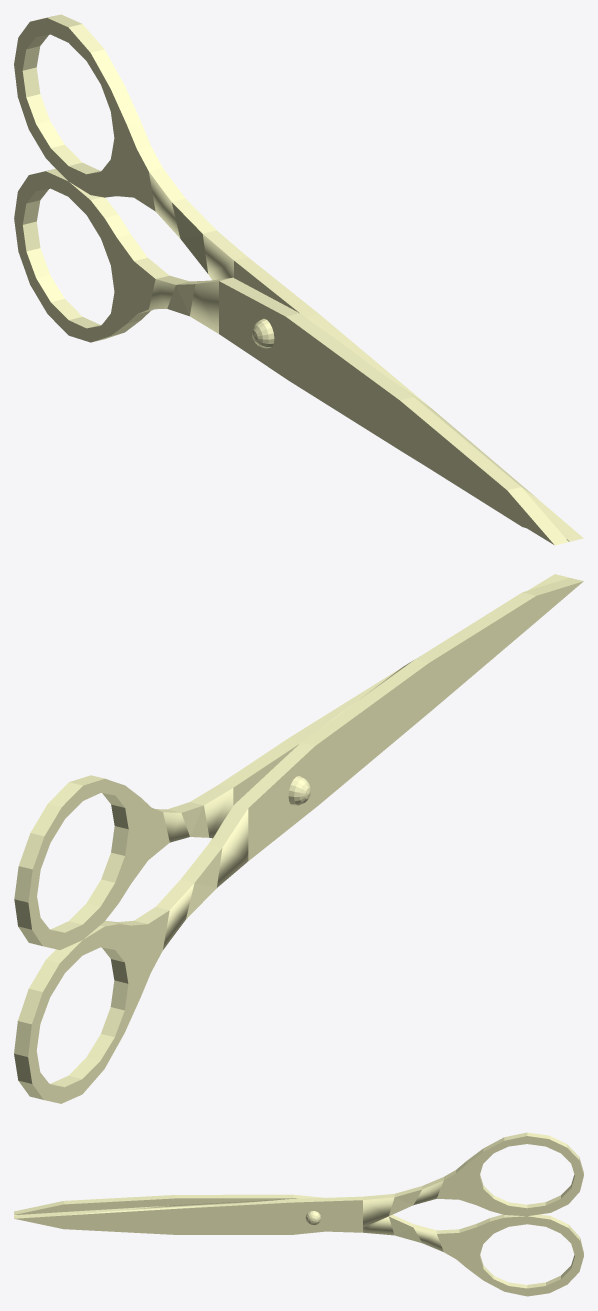
The model's file is scissors1_3.dae.
The picture shows the model from 3 angles, top to bottom: view 1: azimuth 30°, elevation 25°; view 2: azimuth 150°, elevation 25°; view 3: azimuth 270°, elevation 25°; orthographic projection. The views are drawn at different scales.
Visible parts, largest first — view 1: M003320_019; view 2: M003320_019; view 3: M003320_019.
Boxes of the visible parts, bbox=[...] form: M003320_019: bbox=[14, 14, 583, 545]; M003320_019: bbox=[14, 574, 583, 1103]; M003320_019: bbox=[14, 1132, 583, 1296].
Size of the model in its own units: 0.0156 by 0.2706 by 0.084.
